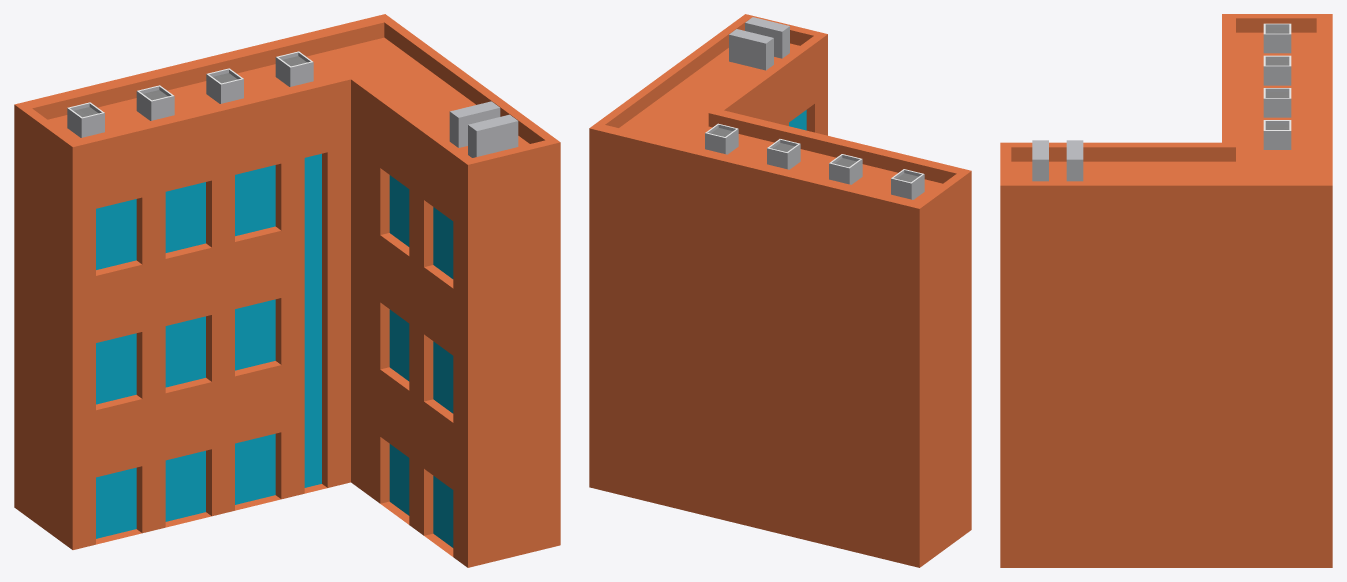
File: building-L.fbx
The picture shows the model from 3 angles, left to right: view 1: azimuth 30°, elevation 25°; view 2: azimuth 150°, elevation 25°; view 3: azimuth 270°, elevation 25°; orthographic projection. The views are drawn at different scales.
Parts seen in each view (by area): view 1: Cube.003; view 2: Cube.003; view 3: Cube.003.
Part boxes in pixels (left/top/right/bottom): Cube.003: left=14, top=14, right=560, bottom=567; Cube.003: left=589, top=14, right=971, bottom=567; Cube.003: left=1000, top=14, right=1332, bottom=567.
Size of the model in its own units: 2321 by 2500 by 1900.
